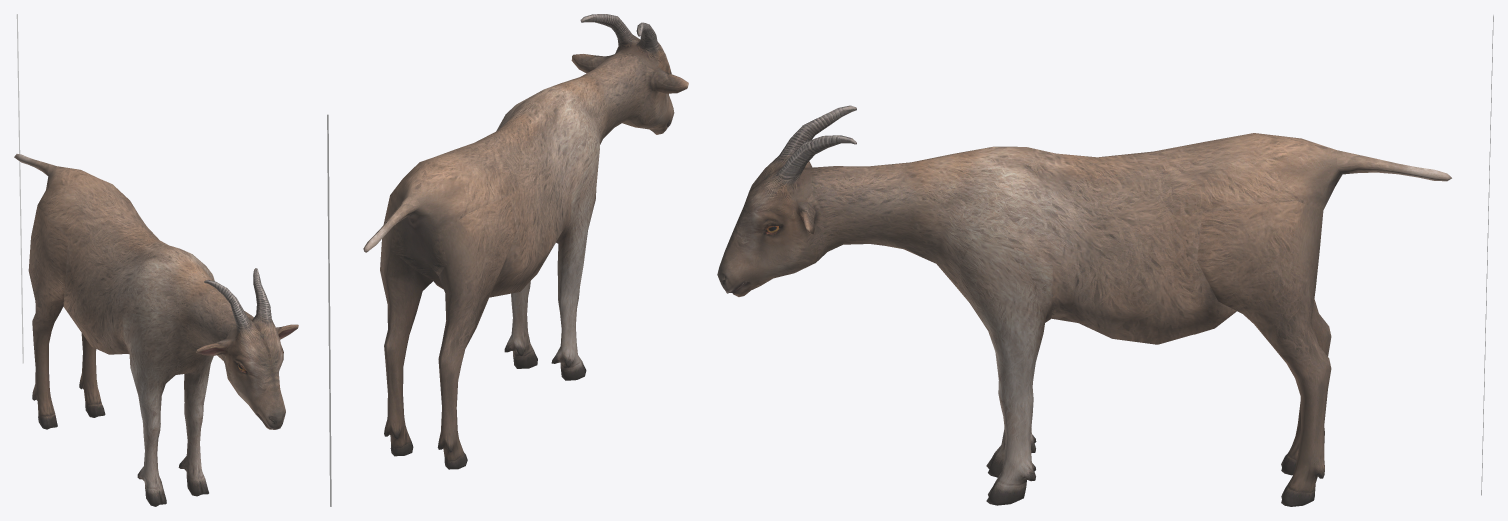
3 renders of one model, left to right at view 1: azimuth 30°, elevation 25°; view 2: azimuth 150°, elevation 25°; view 3: azimuth 270°, elevation 25°, orthographic. The views are drawn at different scales.
Visible parts, largest first — view 1: goat, Плоскость; view 2: goat, Плоскость; view 3: goat.
Part boxes in pixels (x1,y1,x2,y2): goat: [14, 154, 298, 506]; Плоскость: [16, 14, 23, 363]; goat: [363, 14, 688, 469]; Плоскость: [327, 114, 331, 506]; goat: [717, 105, 1451, 506].
Size of the model in its own units: 9.73 by 32.03 by 46.6.
2 materials, 1 textured.
